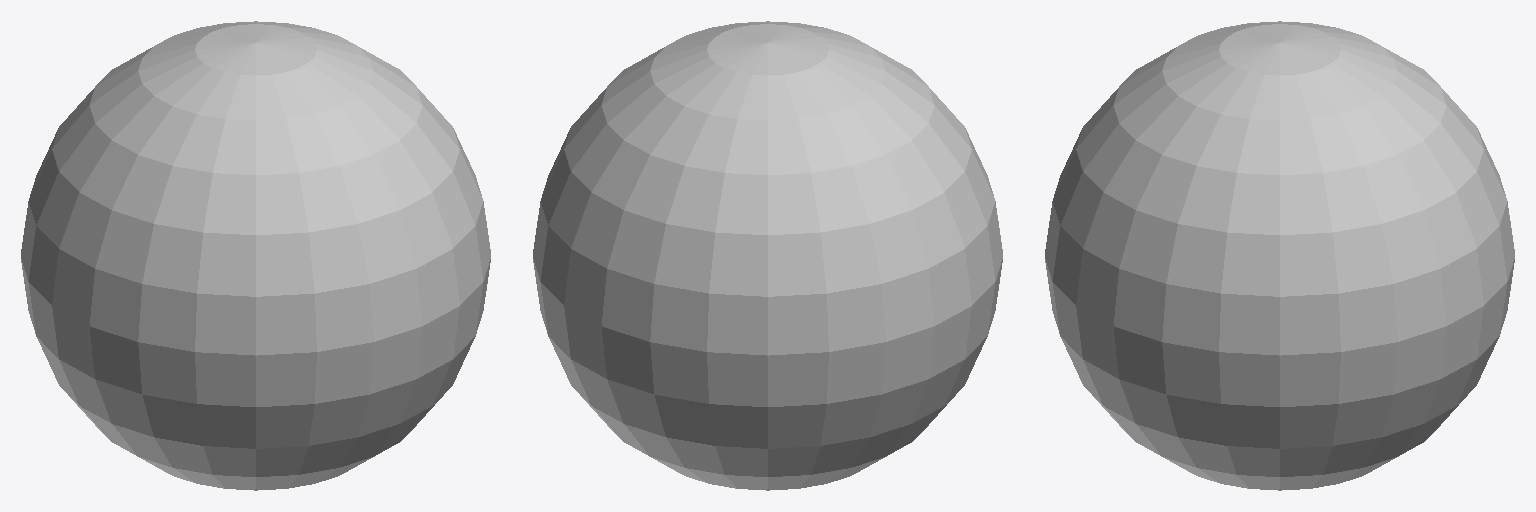
File: beachball.obj
3 views of the same model, side by side, from view 1: azimuth 30°, elevation 25°; view 2: azimuth 150°, elevation 25°; view 3: azimuth 270°, elevation 25° (orthographic).
Visible parts, largest first — view 1: Mesh1 A_simple_beach_ball1 Model; view 2: Mesh1 A_simple_beach_ball1 Model; view 3: Mesh1 A_simple_beach_ball1 Model.
Part boxes in pixels (x1,y1,x2,y2): Mesh1 A_simple_beach_ball1 Model: (21,21,490,490); Mesh1 A_simple_beach_ball1 Model: (533,21,1002,490); Mesh1 A_simple_beach_ball1 Model: (1045,21,1514,490).
Size of the model in its own units: 122 by 122 by 122.